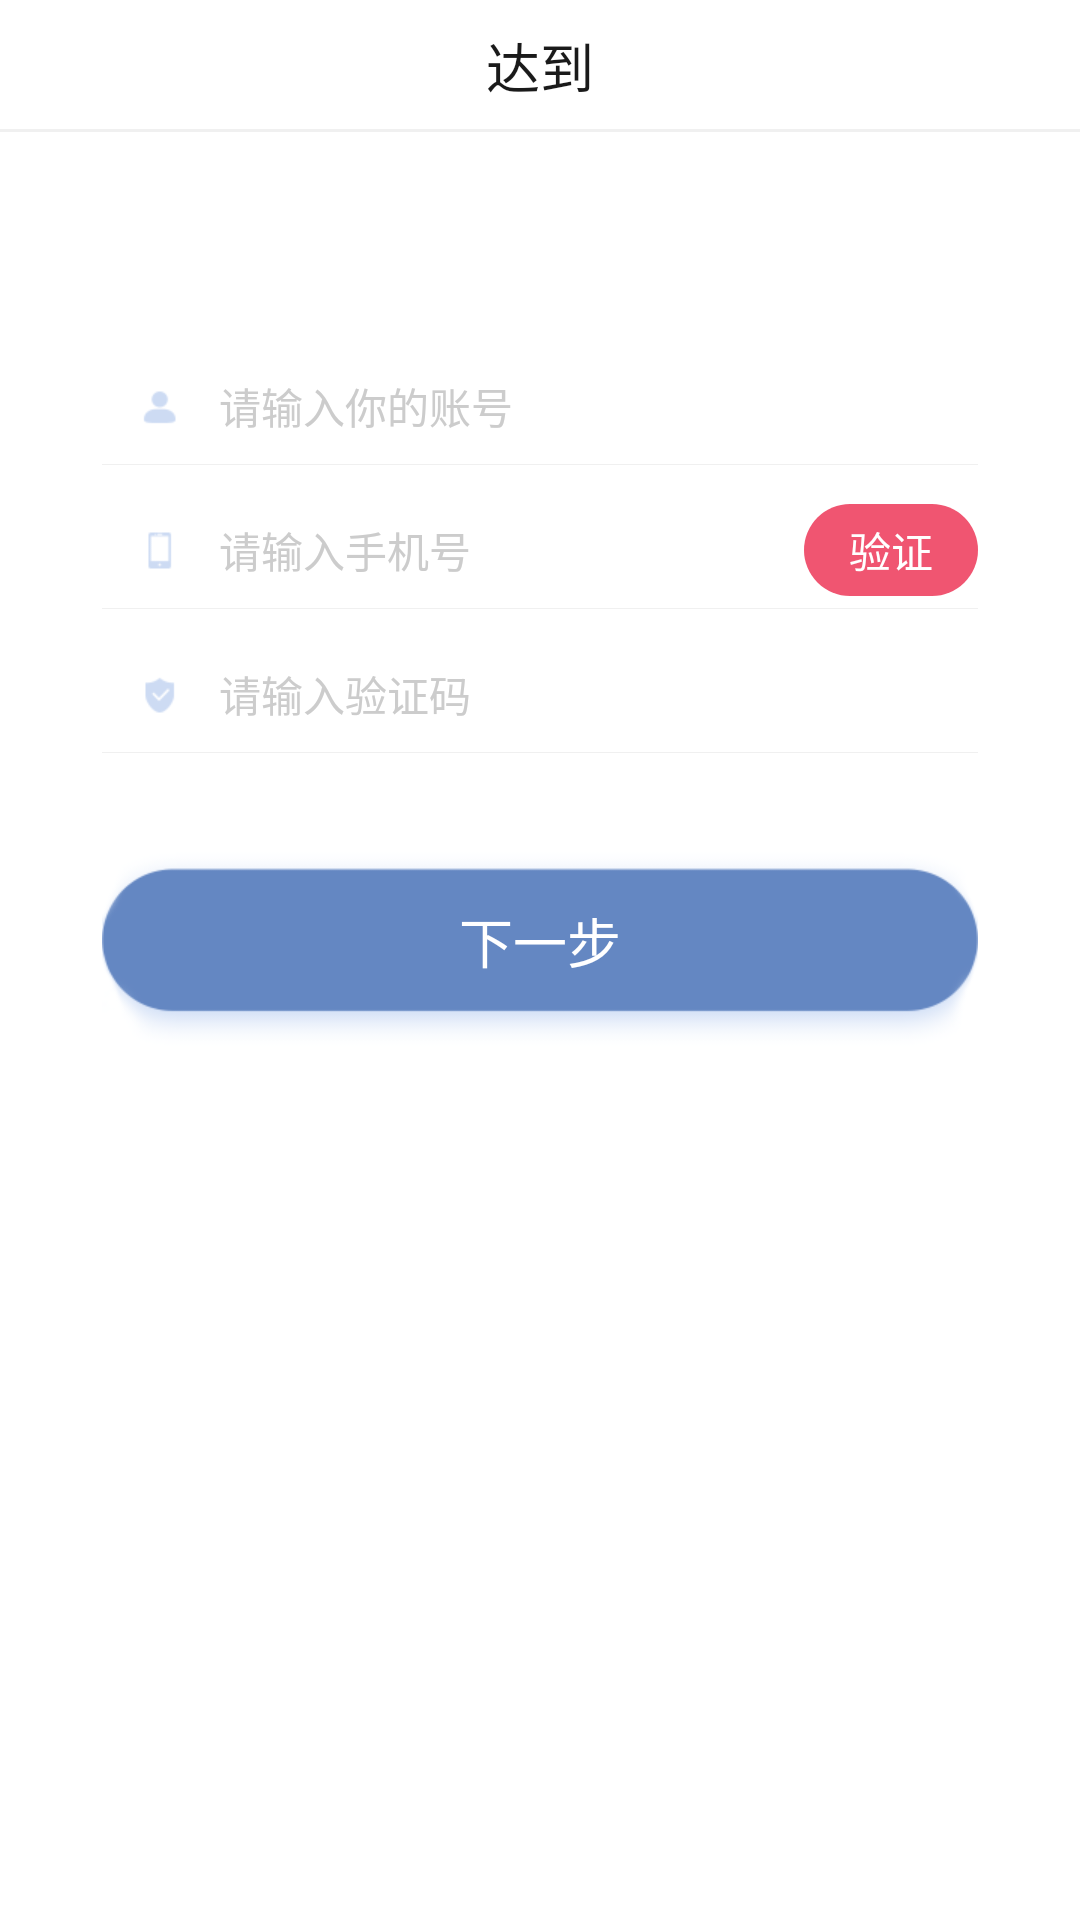

Icon bounding boxes for this 1080 x 1920 phone screenshot, format (x1, y1, x2, y2):
shouji: (148, 532, 171, 569)
yanzheng: (145, 678, 174, 712)
zhanghao: (144, 392, 175, 423)
